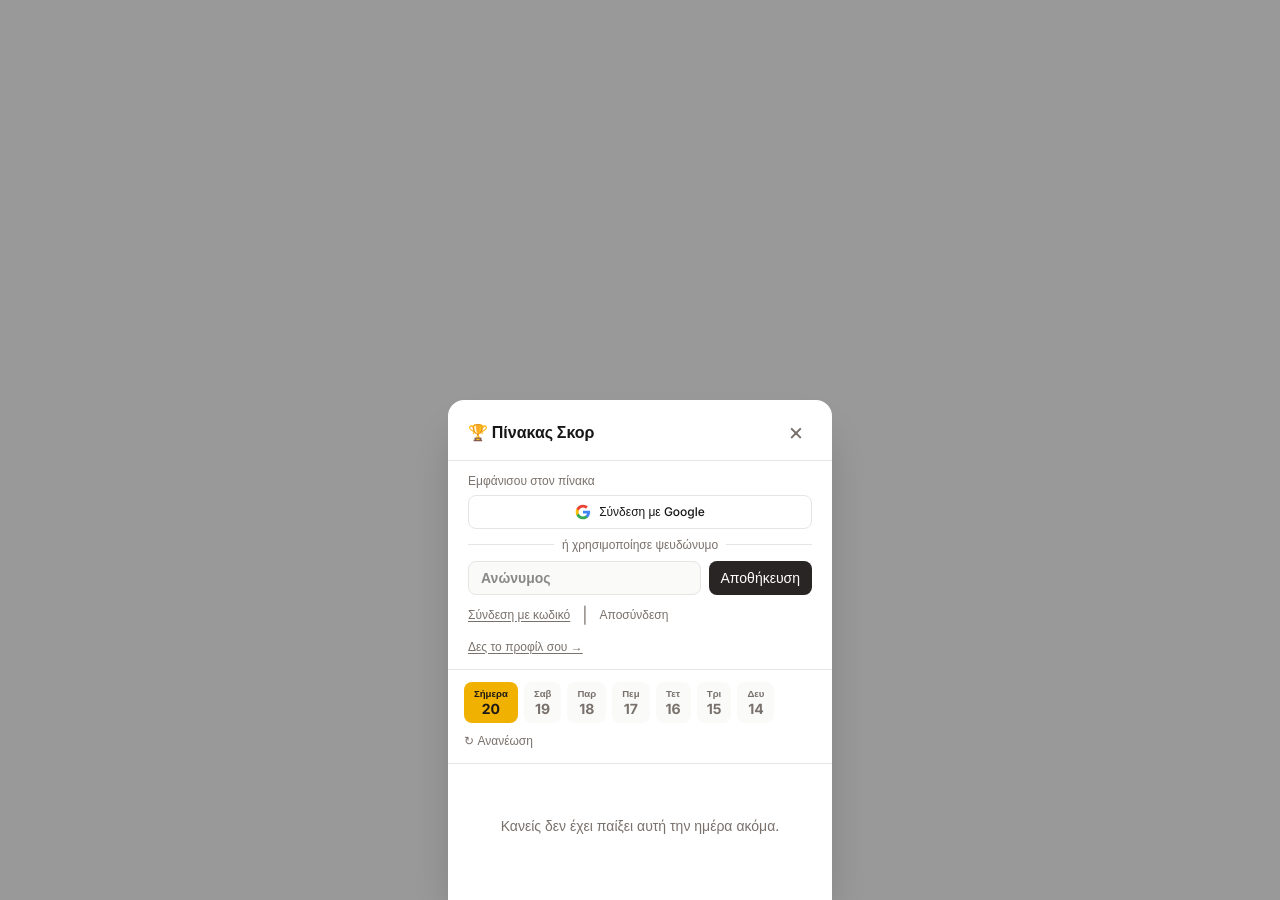
LeaderboardModal — profile section (idle, unlinked) › clicking 'Σύνδεση με κωδικό' shows the transfer-code input
The width and height of the screenshot is (1280, 900).
Click the button "Σύνδεση με κωδικό" at (519, 614), box [468,606,570,622]
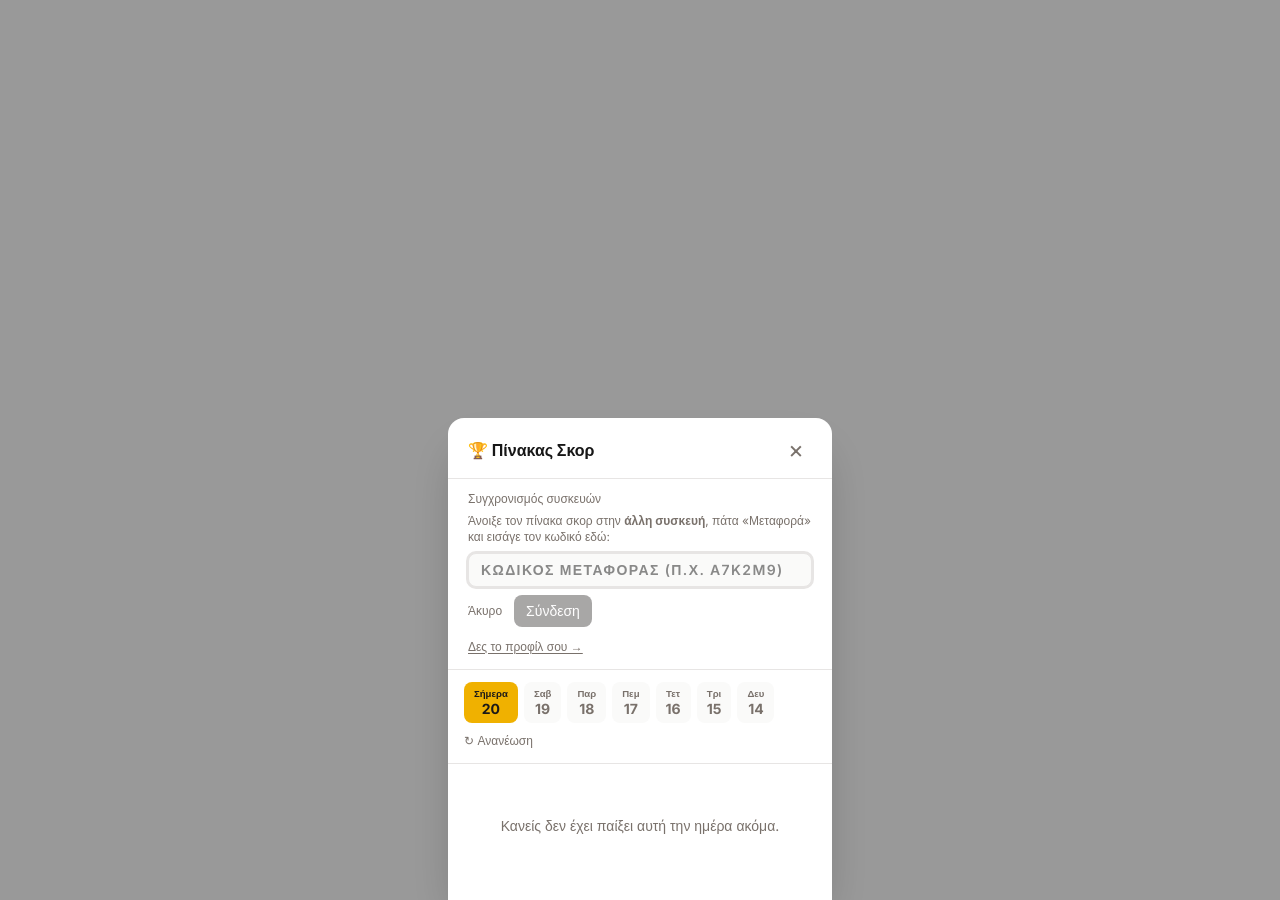
Check: the field with placeholder "Κωδικός μεταφοράς (π.χ. A7K2M9)" is shown, box [468,552,812,586]
